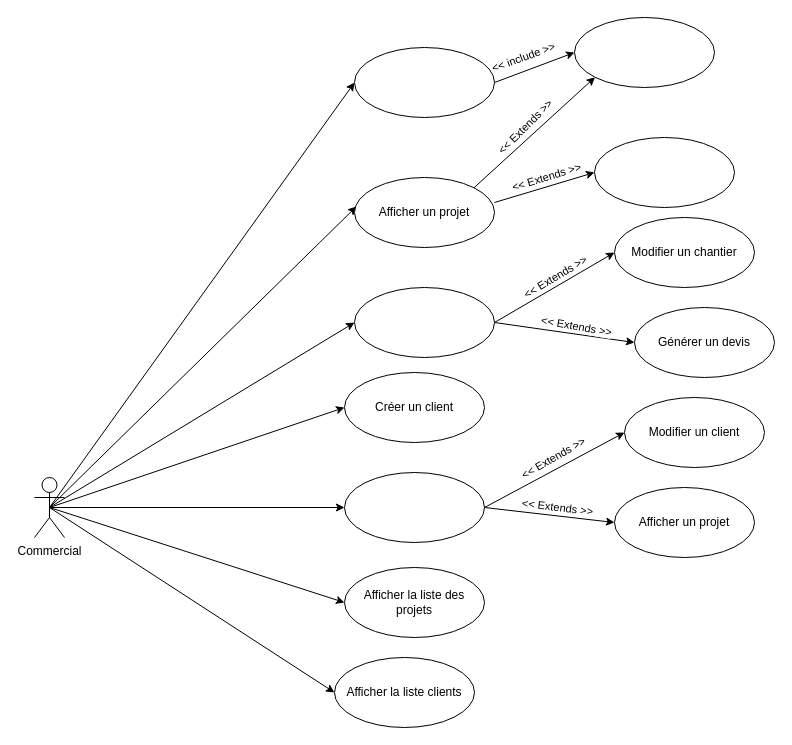
This 792x745 diagram has some shape labels left out. The shapes that lost their labels are listed below. From the top down, each one's centre as x and y in pixels, then its label:
(644,52): Créer un chantier
(424,82): Créer un projet
(664,172): Editer un projet
(424,322): Afficher un chantier
(414,507): Afficher un client
